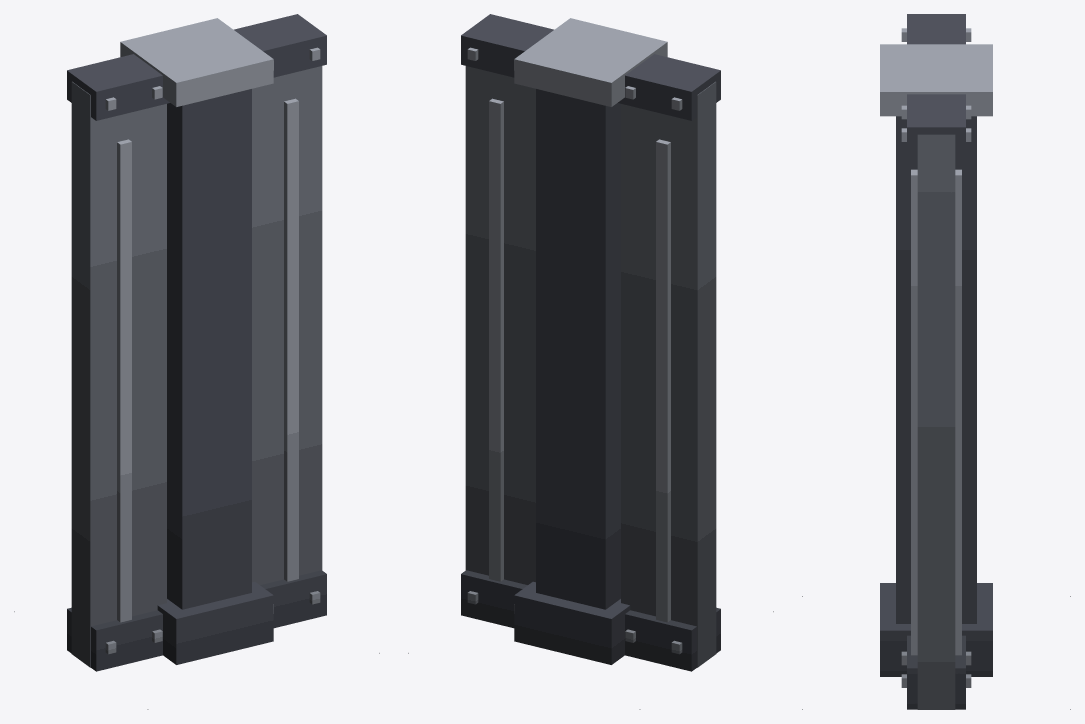
Rendered from wall_metal_straight.glb.
The picture shows the model from 3 angles, left to right: view 1: azimuth 30°, elevation 25°; view 2: azimuth 150°, elevation 25°; view 3: azimuth 270°, elevation 25°; orthographic projection.
Bounding box in the file's own units: 1 × 2.4 × 1.
Materials: 1 (1 with a texture image).
